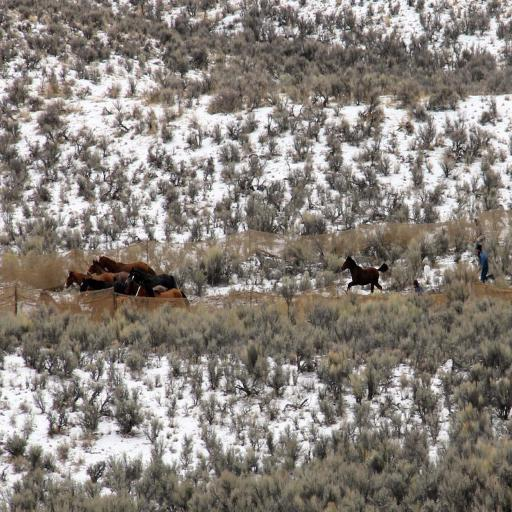horse: (64, 253, 190, 311), (340, 254, 390, 298)
